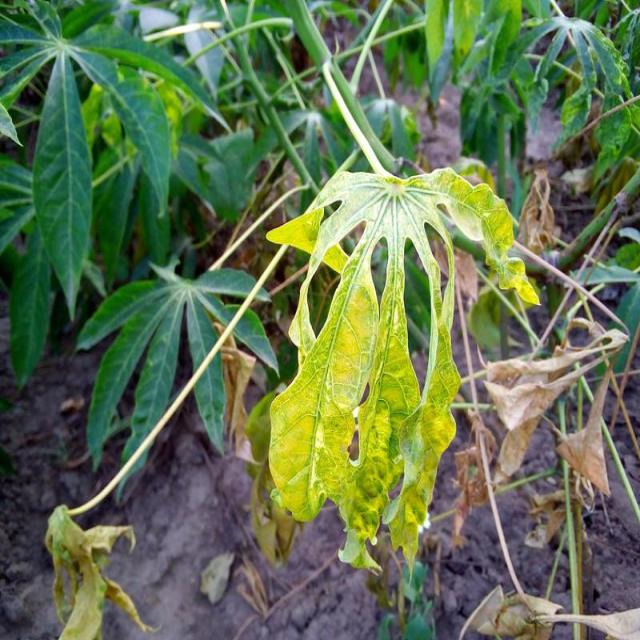cassava leaf: (264, 162, 539, 578)
